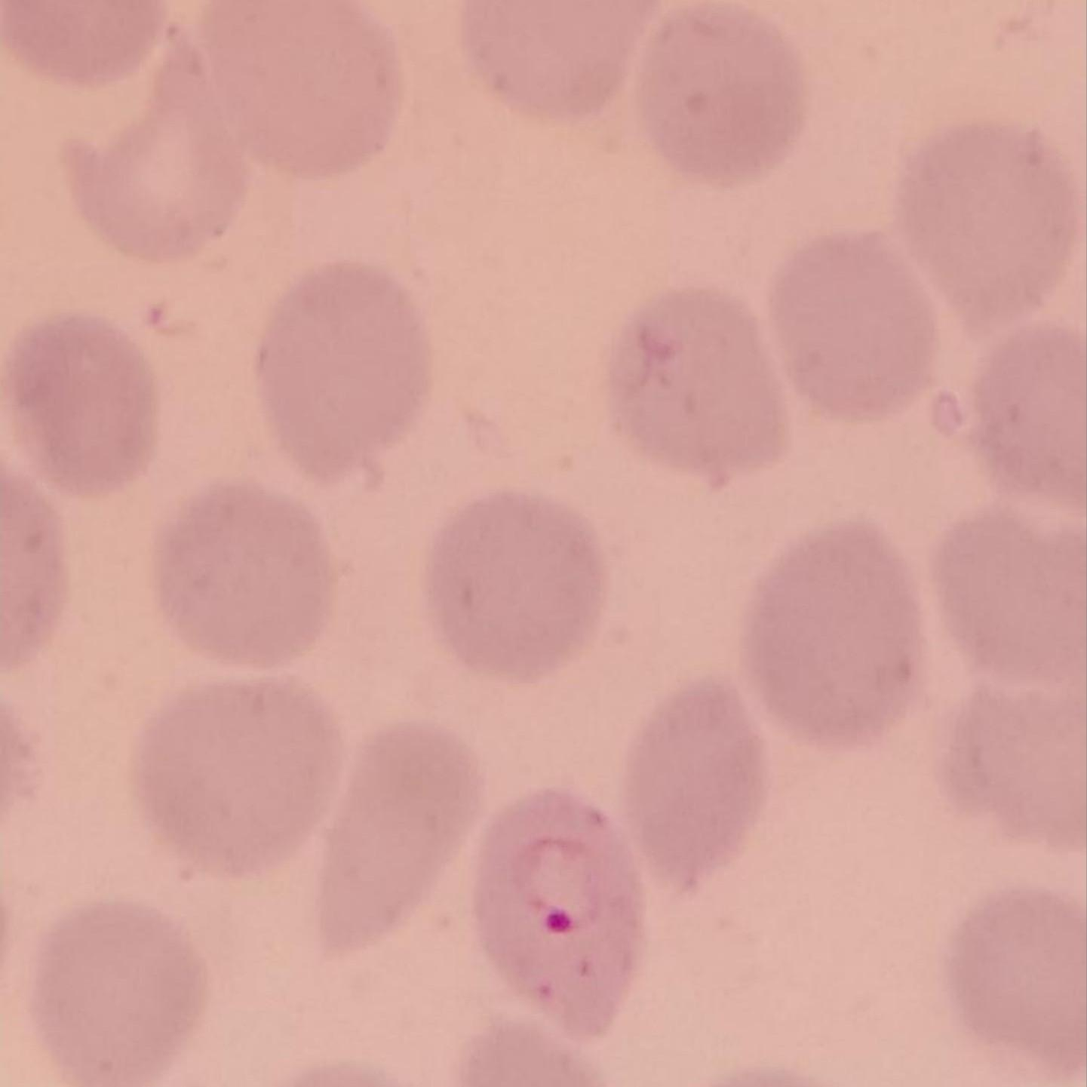Infected: (475, 785, 642, 1033)
Uninfected: (143, 677, 351, 878), (60, 51, 250, 258), (745, 521, 924, 739), (313, 725, 476, 956), (892, 123, 1072, 329), (255, 264, 425, 477), (602, 287, 793, 474), (769, 232, 944, 434), (198, 0, 401, 172), (430, 491, 613, 679), (153, 481, 331, 662), (643, 0, 816, 184), (34, 898, 207, 1081), (0, 306, 158, 493), (928, 504, 1087, 683), (628, 681, 770, 881), (947, 887, 1087, 1087), (462, 0, 663, 125), (935, 685, 1087, 849), (969, 329, 1087, 505)
